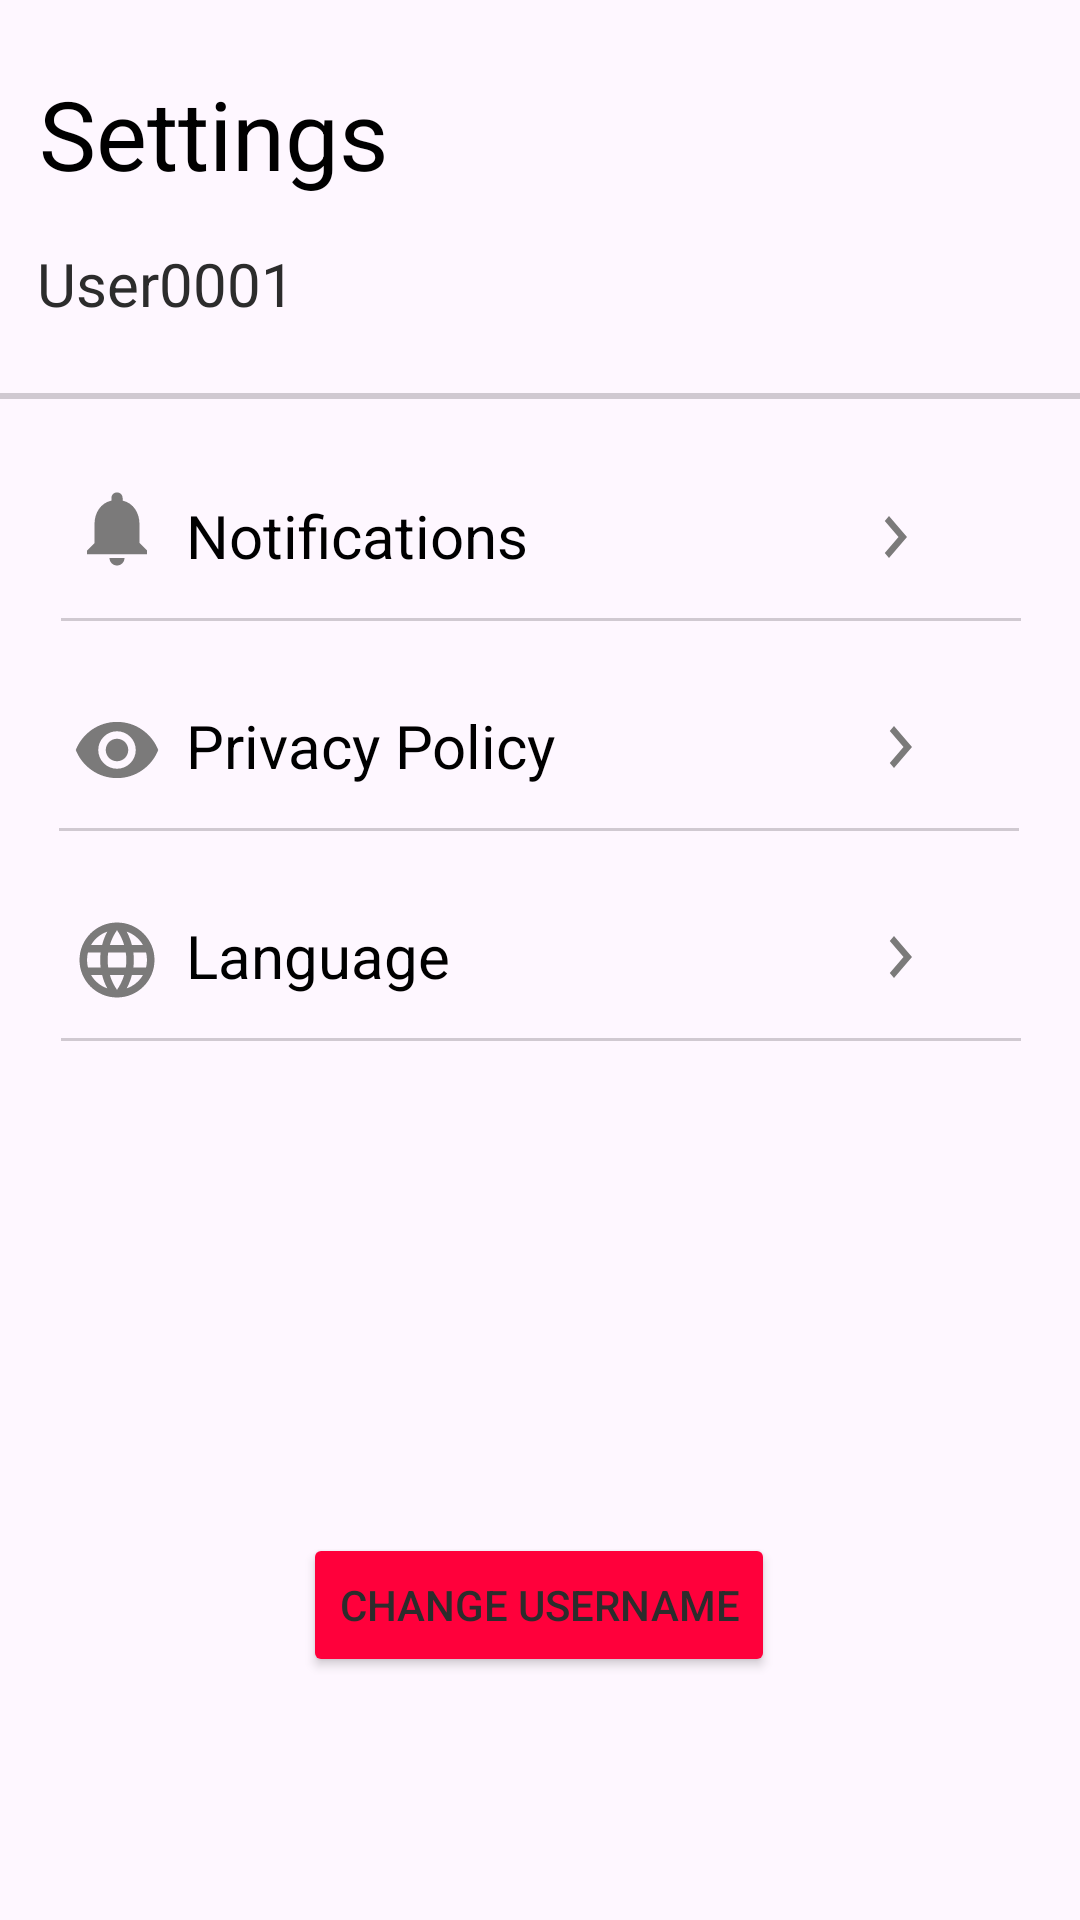

Where icons sit on this 1080x1920 app screen, as (x1, y1, x2, y2):
eye: (76, 722, 158, 778)
navigate: (885, 516, 907, 558), (890, 726, 912, 768), (890, 936, 912, 978)
